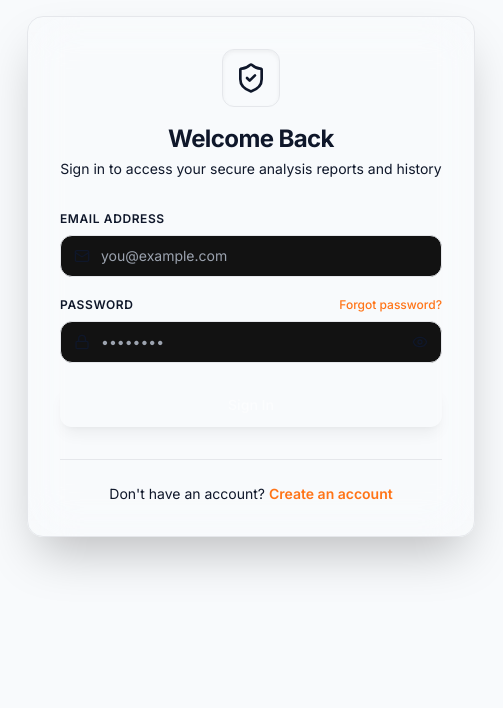
Scenario: Authentication & Account Management › LoginPage › displays network failure message when server is unreachable
Type "user@example.com" into the field labelled "Email Address".
click(251, 256); type("user@example.com")  # box [60,235,442,277]
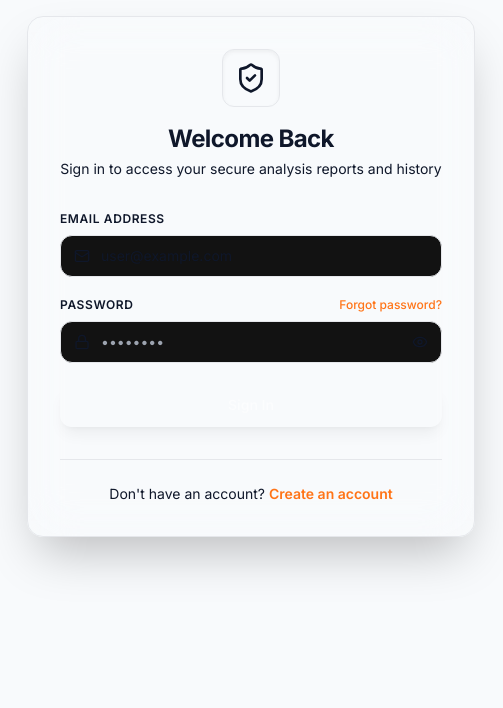
Type "Password123!" into the password field labelled "Password".
click(251, 342); type("Password123!")  # box [60,321,442,363]
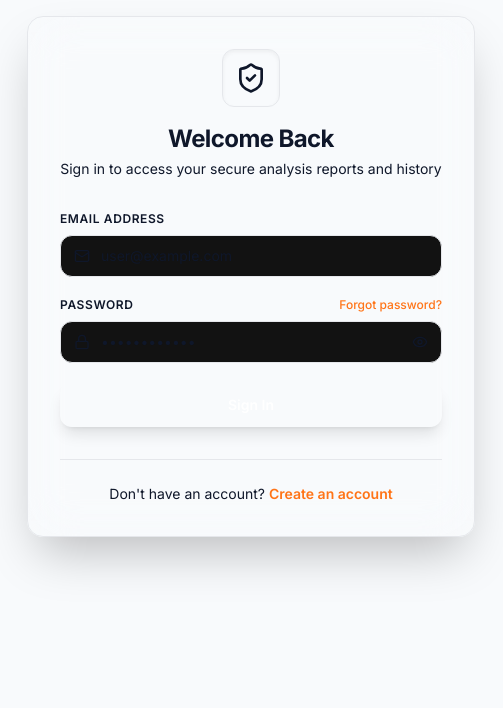
Click the button "Sign In".
click(251, 405)  # box [60,383,442,427]
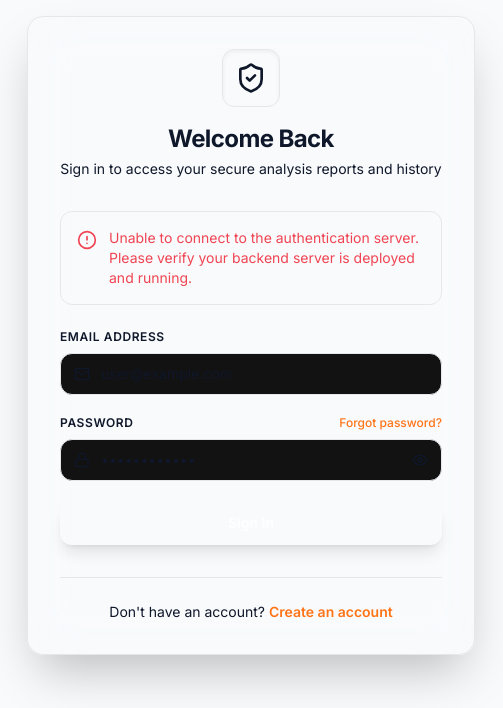
Now the message shows "Unable to connect to the authentication server", box [109,229,419,286]
